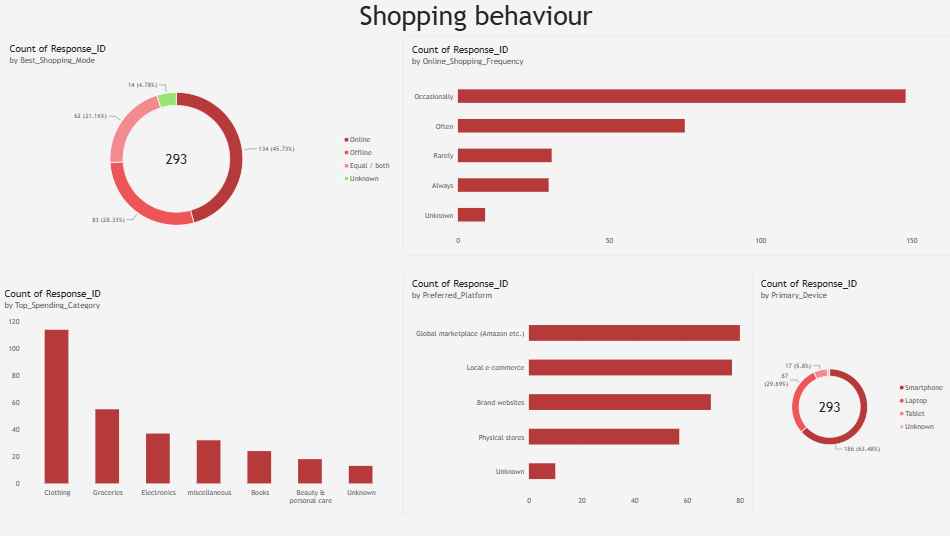

Layout of this report page (visuals, bound fields, positions):
{"tool":"powerbi","page":{"name":"Shopping behaviour","canvas":[1920,1080],"ordinal":2},"visuals":[{"type":"donutChart","fields":{"Category":["consumer_shopping_behavior_survey.Best_Shopping_Mode"],"Y":["CountNonNull(consumer_shopping_behavior_survey.Response_ID)"]},"box":[10,70,804,438],"z":0},{"type":"clusteredBarChart","fields":{"Category":["consumer_shopping_behavior_survey.Online_Shopping_Frequency"],"Y":["CountNonNull(consumer_shopping_behavior_survey.Response_ID)"]},"box":[814,72,1106,438],"z":1000},{"type":"clusteredColumnChart","fields":{"Category":["consumer_shopping_behavior_survey.Top_Spending_Category"],"Y":["CountNonNull(consumer_shopping_behavior_survey.Response_ID)"]},"box":[0,560,814,470],"z":2000},{"type":"clusteredBarChart","fields":{"Category":["consumer_shopping_behavior_survey.Preferred_Platform"],"Y":["CountNonNull(consumer_shopping_behavior_survey.Response_ID)"]},"box":[814,540,698,490],"z":3000},{"type":"donutChart","fields":{"Category":["consumer_shopping_behavior_survey.Primary_Device"],"Y":["CountNonNull(consumer_shopping_behavior_survey.Response_ID)"]},"box":[1512,540,408,490],"z":4000},{"type":"textbox","box":[0,0,1920,84],"z":4001}]}

Visuals, with their boxes in screenshot pixels (x1, y1, x2, y2), scaled from the page's 1920x1080 canvas onto the 950x536 screenshot:
donutChart - consumer_shopping_behavior_survey.Best_Shopping_Mode x CountNonNull(consumer_shopping_behavior_survey.Response_ID): x1=5 y1=35 x2=403 y2=252
clusteredBarChart - consumer_shopping_behavior_survey.Online_Shopping_Frequency x CountNonNull(consumer_shopping_behavior_survey.Response_ID): x1=403 y1=36 x2=949 y2=253
clusteredColumnChart - consumer_shopping_behavior_survey.Top_Spending_Category x CountNonNull(consumer_shopping_behavior_survey.Response_ID): x1=0 y1=278 x2=403 y2=511
clusteredBarChart - consumer_shopping_behavior_survey.Preferred_Platform x CountNonNull(consumer_shopping_behavior_survey.Response_ID): x1=403 y1=268 x2=748 y2=511
donutChart - consumer_shopping_behavior_survey.Primary_Device x CountNonNull(consumer_shopping_behavior_survey.Response_ID): x1=748 y1=268 x2=949 y2=511
textbox: x1=0 y1=0 x2=949 y2=42
